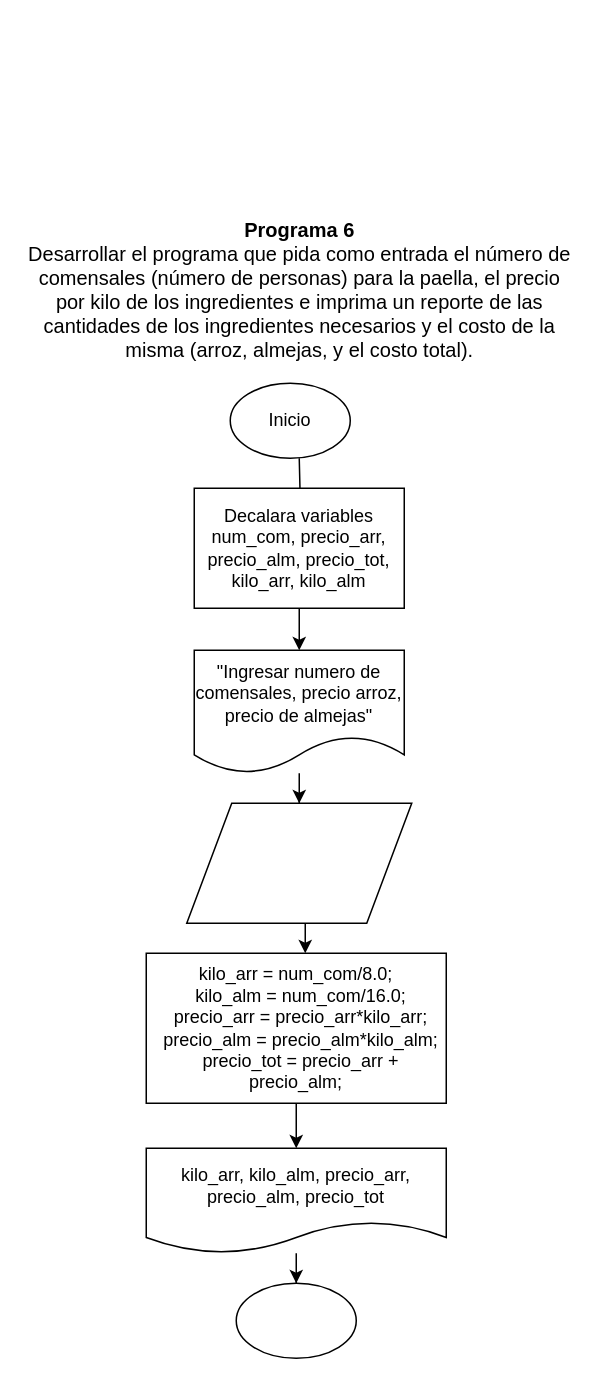
This 599x1385 diagram has some shape labels left out. The shapes that lost their labels are listed below. From the top down, each one's centre as x and y in pixels, then its label:
At (298,862): "Guardar entrada en num_com, precio_arr, precio_alm".
At (295,1320): "Final".
